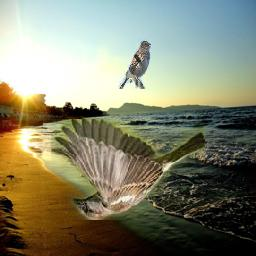Sparrow: (51, 120, 205, 221), (119, 39, 152, 89)
